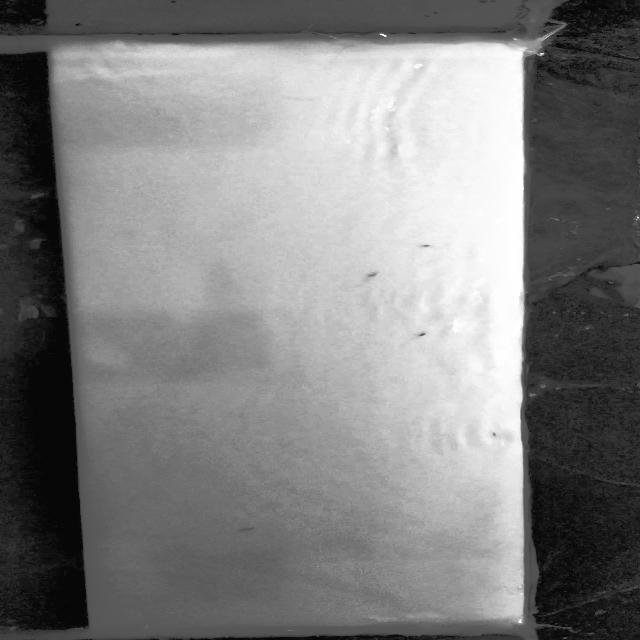shrimp: (362, 268, 393, 281), (232, 526, 264, 534), (414, 329, 433, 341), (412, 241, 438, 249), (488, 430, 503, 438)
